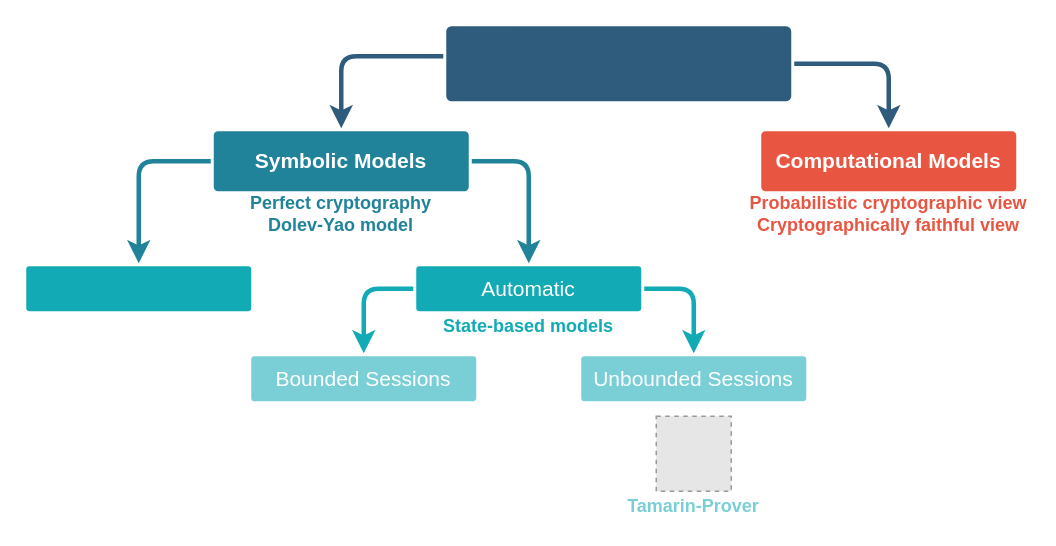
Some shapes in this 1056 by 546 pixel diagram are drawn without their labels. Grey dashed boxes stand in for pictures. The centre of each missing label's shape, as x and y in pixels:
"Deductive" goes at [138,288].
"Security Protocol Analysis" goes at [618,63].
